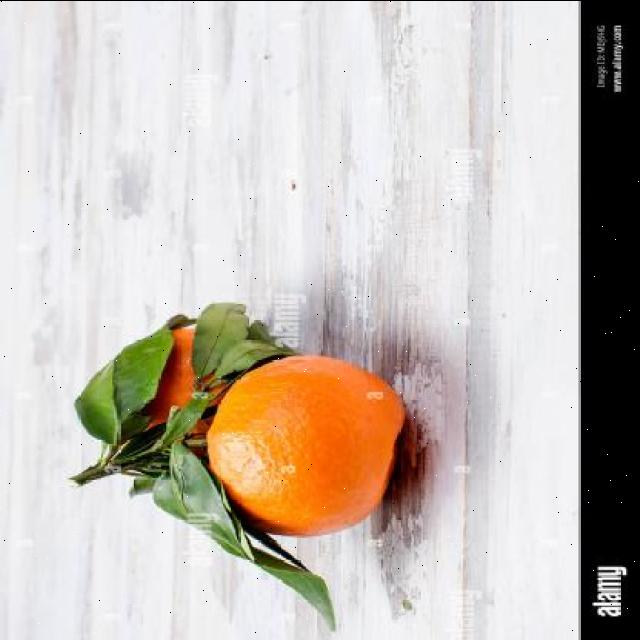Orange: (205, 354, 406, 538)
